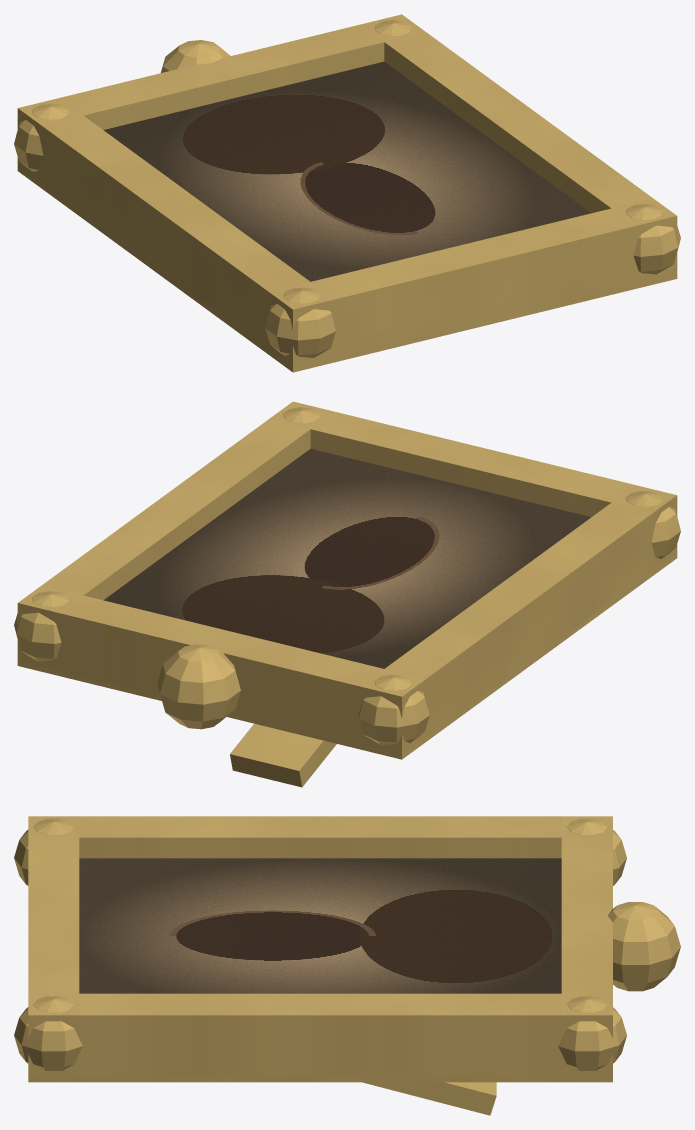
The model's file is frame_a.glb.
The picture shows the model from 3 angles, top to bottom: view 1: azimuth 30°, elevation 25°; view 2: azimuth 150°, elevation 25°; view 3: azimuth 270°, elevation 25°; orthographic projection. The views are drawn at different scales.
Visible parts, largest first — view 1: FrameBody, Photo; view 2: FrameBody, Photo; view 3: FrameBody, Photo.
Part boxes in pixels (x1,y1,x2,y2): FrameBody: (14,14,680,372); Photo: (103,61,591,281); FrameBody: (14,401,680,787); Photo: (103,448,591,668); FrameBody: (14,816,680,1115); Photo: (79,858,561,993).
Bounding box in the file's own units: 0.1746 × 0.0748 × 0.235.
Materials: 2 (2 with a texture image).
